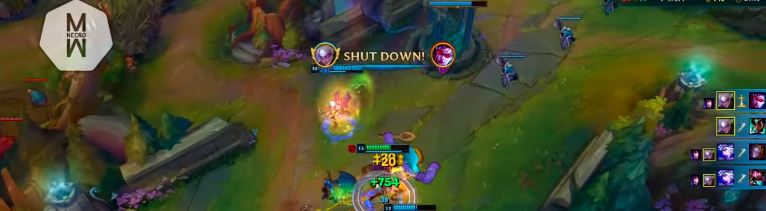bar: (354, 141, 414, 155), (306, 62, 368, 75), (380, 202, 439, 211)
